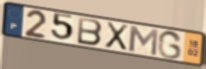2: (25, 9, 48, 41)
5: (50, 12, 76, 44)
B: (76, 16, 104, 48)
G: (156, 29, 183, 60)
M: (128, 24, 160, 58)
X: (103, 21, 130, 52)
